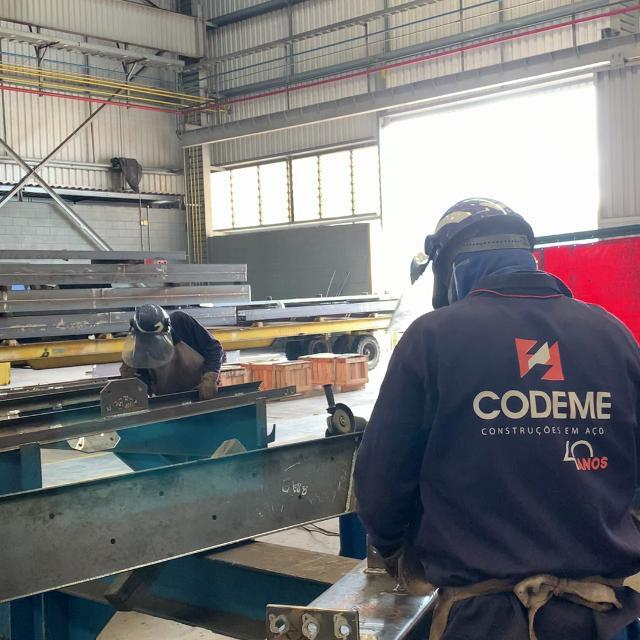face-shield: (382, 259, 426, 332), (120, 336, 178, 371)
glove: (196, 370, 219, 403)
helmet: (431, 199, 538, 254), (129, 305, 170, 341)
person: (352, 198, 640, 627), (119, 304, 228, 399)
